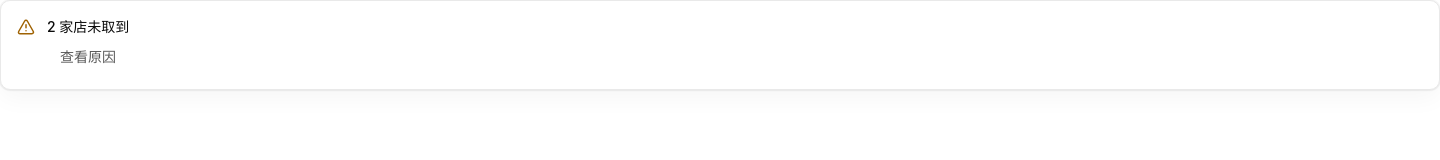
Test: ShopFailureAlert › 展开看是哪几家及原因（没有原因时给兜底说法），可收起
Click the button "查看原因" at (88, 57), box [47,41,129,73]
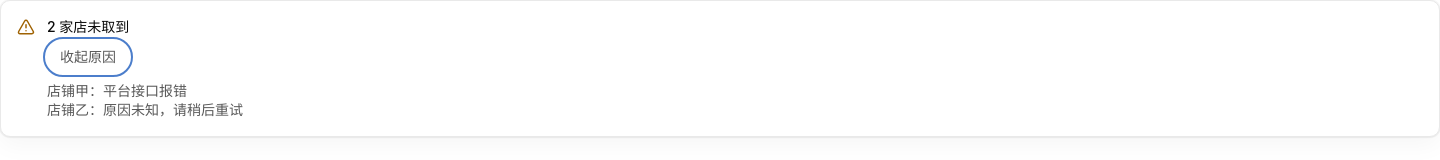
Expected: the list items read "店铺甲：平台接口报错", "店铺乙：原因未知，请稍后重试", in this order, [47,82,187,99]; [47,101,243,118]
Expected: the button "收起原因" is expanded
Click the button "收起原因" at (88, 57), box [47,41,129,73]
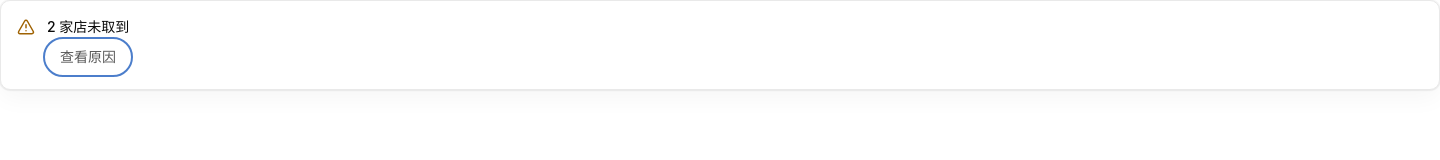
Expected: the list item "店铺甲：平台接口报错" is gone
